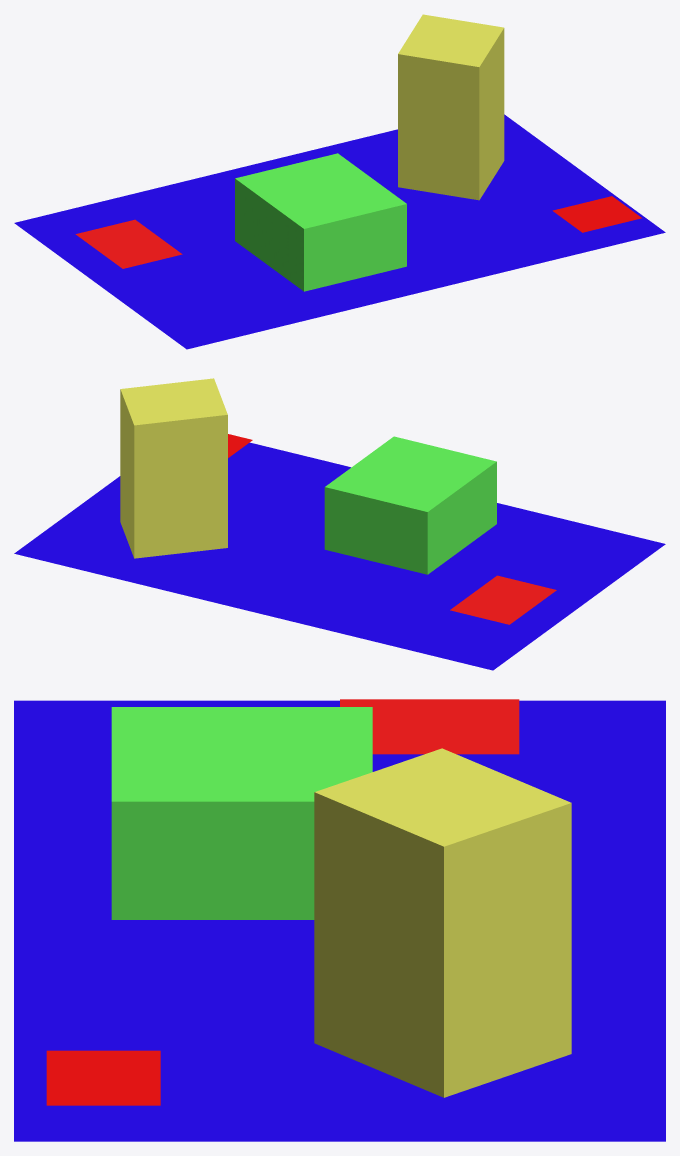
File: field3.fbx
3 views of the same model, one above another, from view 1: azimuth 30°, elevation 25°; view 2: azimuth 150°, elevation 25°; view 3: azimuth 270°, elevation 25° (orthographic). The views are drawn at different scales.
Visible parts, largest first — view 1: ポリゴンメッシュ, ポリゴンメッシュ_ncl1_1, ポリゴンメッシュ_ncl1_2, ポリゴンメッシュ_ncl1_4, ポリゴンメッシュ_ncl1_3; view 2: ポリゴンメッシュ, ポリゴンメッシュ_ncl1_1, ポリゴンメッシュ_ncl1_2, ポリゴンメッシュ_ncl1_4; view 3: ポリゴンメッシュ, ポリゴンメッシュ_ncl1_1, ポリゴンメッシュ_ncl1_2, ポリゴンメッシュ_ncl1_4, ポリゴンメッシュ_ncl1_3.
Boxes of the visible parts, x1,y1,x2,y2 form: ポリゴンメッシュ: (14,114,665,349); ポリゴンメッシュ_ncl1_1: (398,14,504,200); ポリゴンメッシュ_ncl1_2: (235,153,406,291); ポリゴンメッシュ_ncl1_4: (75,219,182,268); ポリゴンメッシュ_ncl1_3: (552,196,641,232); ポリゴンメッシュ: (14,442,665,670); ポリゴンメッシュ_ncl1_1: (120,378,227,558); ポリゴンメッシュ_ncl1_2: (324,436,496,574); ポリゴンメッシュ_ncl1_4: (450,575,556,624); ポリゴンメッシュ: (14,700,665,1141); ポリゴンメッシュ_ncl1_1: (314,748,571,1097); ポリゴンメッシュ_ncl1_2: (111,707,372,919); ポリゴンメッシュ_ncl1_4: (340,699,519,754); ポリゴンメッシュ_ncl1_3: (46,1050,160,1105).
Size of the model in its own units: 320 by 85 by 200.
